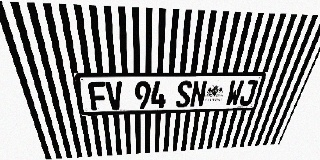4: (151, 81, 167, 108)
9: (135, 81, 151, 109)
F: (88, 82, 108, 110)
J: (238, 80, 258, 106)
N: (190, 80, 208, 107)
S: (175, 81, 193, 108)
V: (105, 81, 123, 110)
W: (225, 80, 245, 106)
